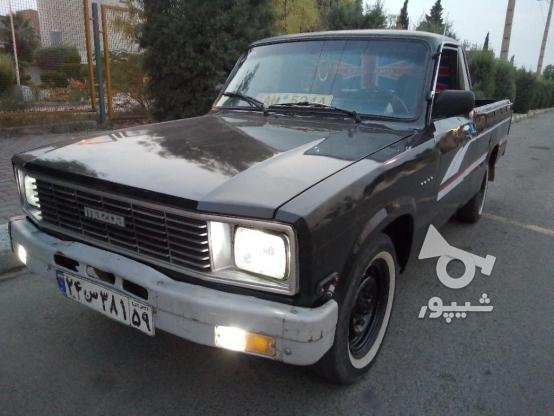car: (53, 269, 155, 336)
